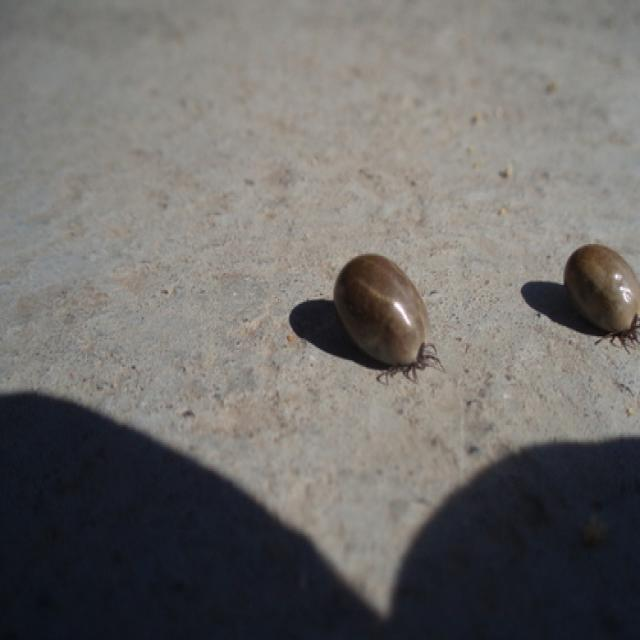Ixodes Ricinus-F-Fed: (333, 254, 445, 384), (563, 244, 640, 350)
